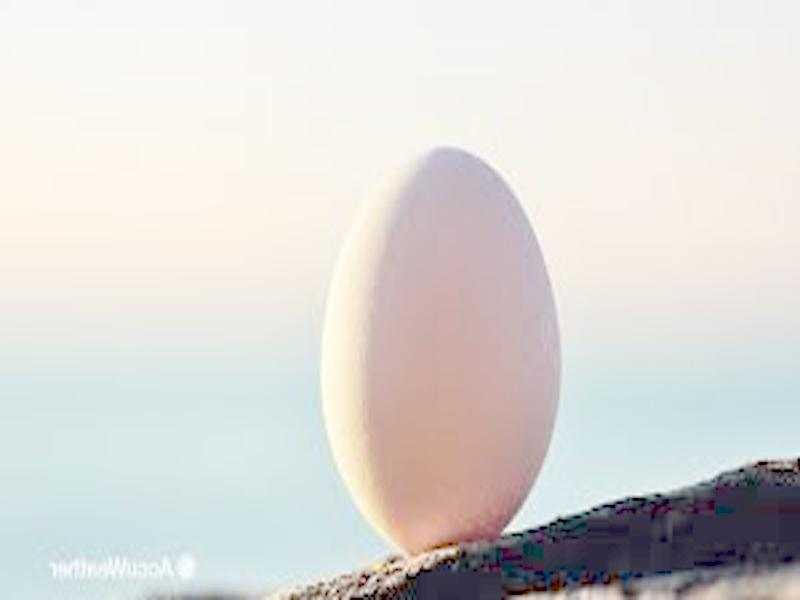Eggs: (319, 143, 562, 550)
